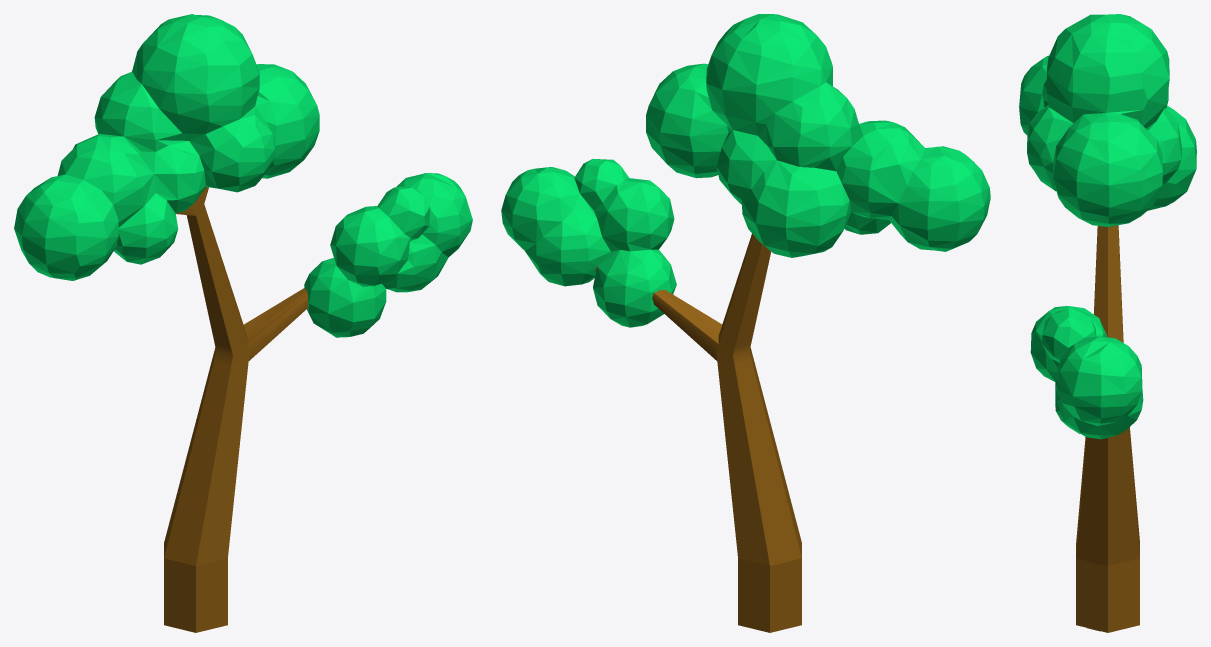
Rendered from LP_Tree.fbx.
The picture shows the model from 3 angles, left to right: view 1: azimuth 30°, elevation 25°; view 2: azimuth 150°, elevation 25°; view 3: azimuth 270°, elevation 25°; orthographic projection.
Visible parts, largest first — view 1: polySurface1; view 2: polySurface1; view 3: polySurface1.
Part boxes in pixels (x1=…): polySurface1: x1=14, y1=14, x2=472, y2=632; polySurface1: x1=501, y1=14, x2=990, y2=632; polySurface1: x1=1019, y1=14, x2=1196, y2=632.
Bounding box in the file's own units: 24.45 × 30.31 × 8.16.
